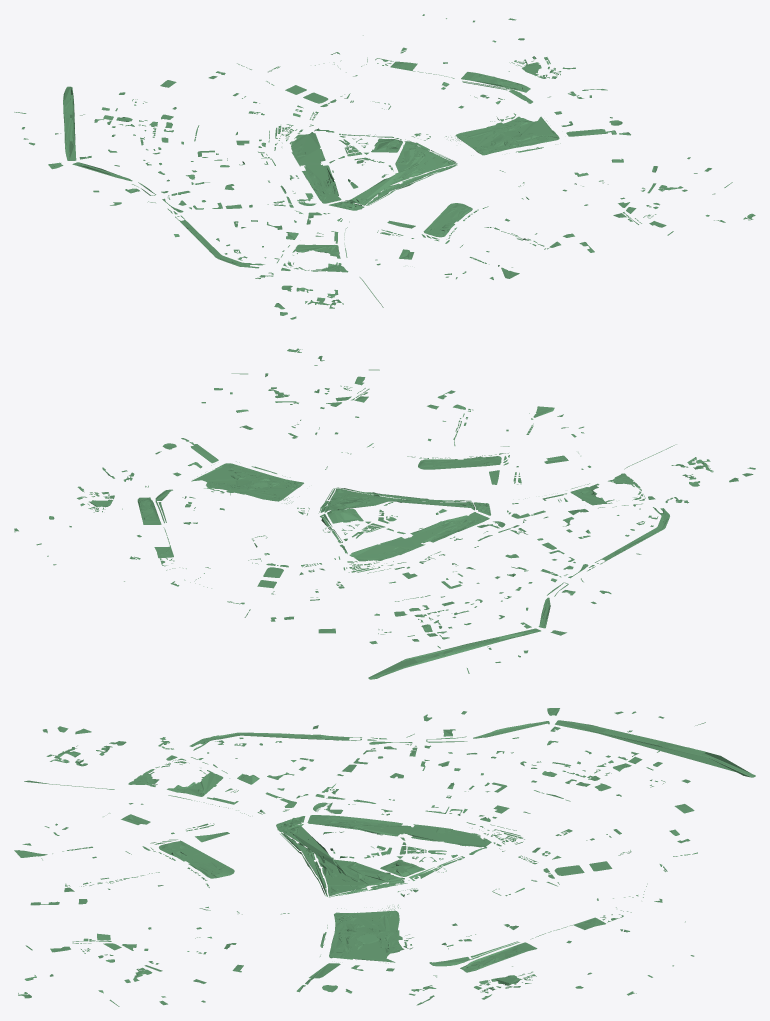
The model's file is green.glb.
The picture shows the model from 3 angles, top to bottom: view 1: azimuth 30°, elevation 25°; view 2: azimuth 150°, elevation 25°; view 3: azimuth 270°, elevation 25°; orthographic projection. The views are drawn at different scales.
Visible parts, largest first — view 1: green; view 2: green; view 3: green.
Part boxes in pixels (x1,y1,x2,y2): green: (14, 14, 755, 319); green: (14, 348, 755, 679); green: (14, 708, 755, 1006).
Bounding box in the file's own units: 2695 × 54.49 × 2880.
